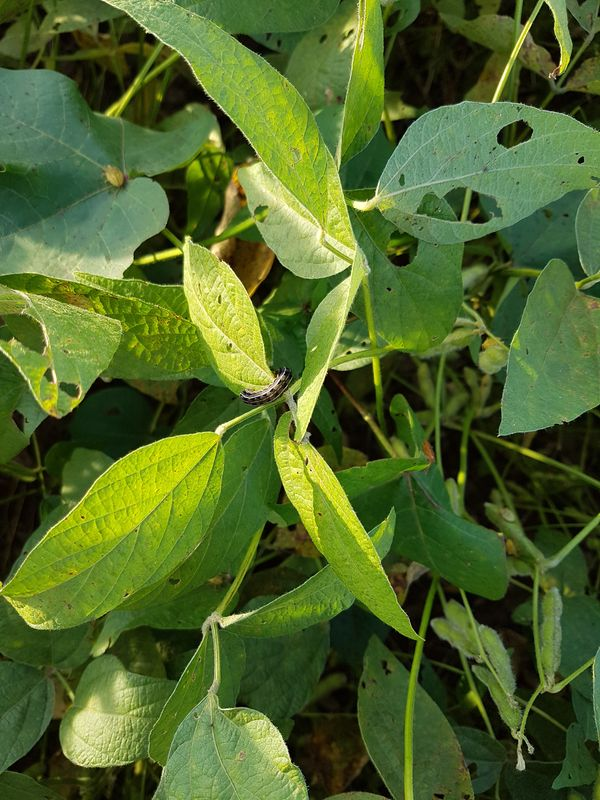Euschistus_heros_ninfa: (94, 155, 132, 194)
Spodoptera_albula: (228, 354, 304, 426)
